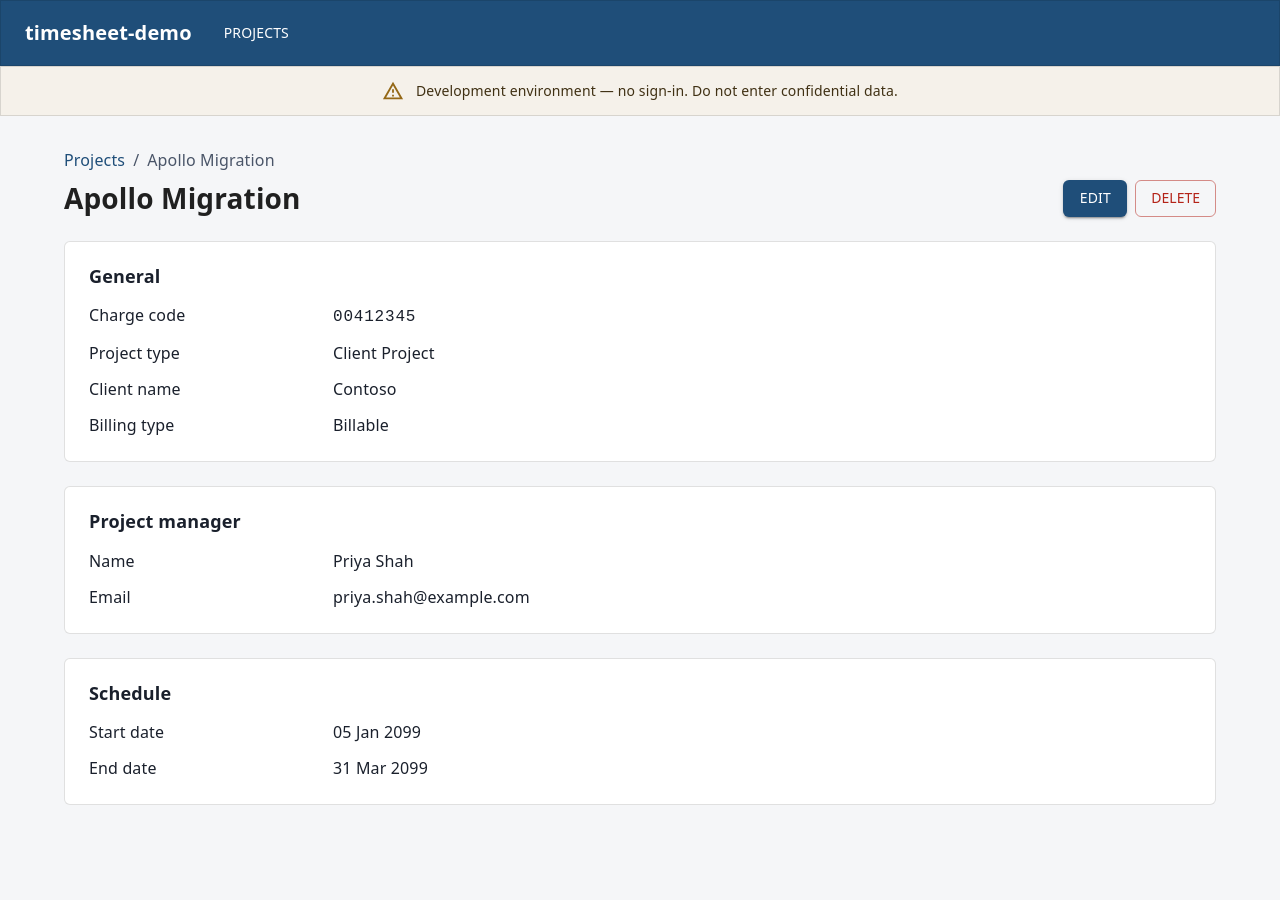
Test: DeleteProjectDialog › closes on Cancel without a request and returns focus to Delete
The width and height of the screenshot is (1280, 900).
Check: the heading "Apollo Migration" is shown, box [64,182,301,215]
Click the button "Delete".
click(1176, 198)  # box [1135,180,1216,216]
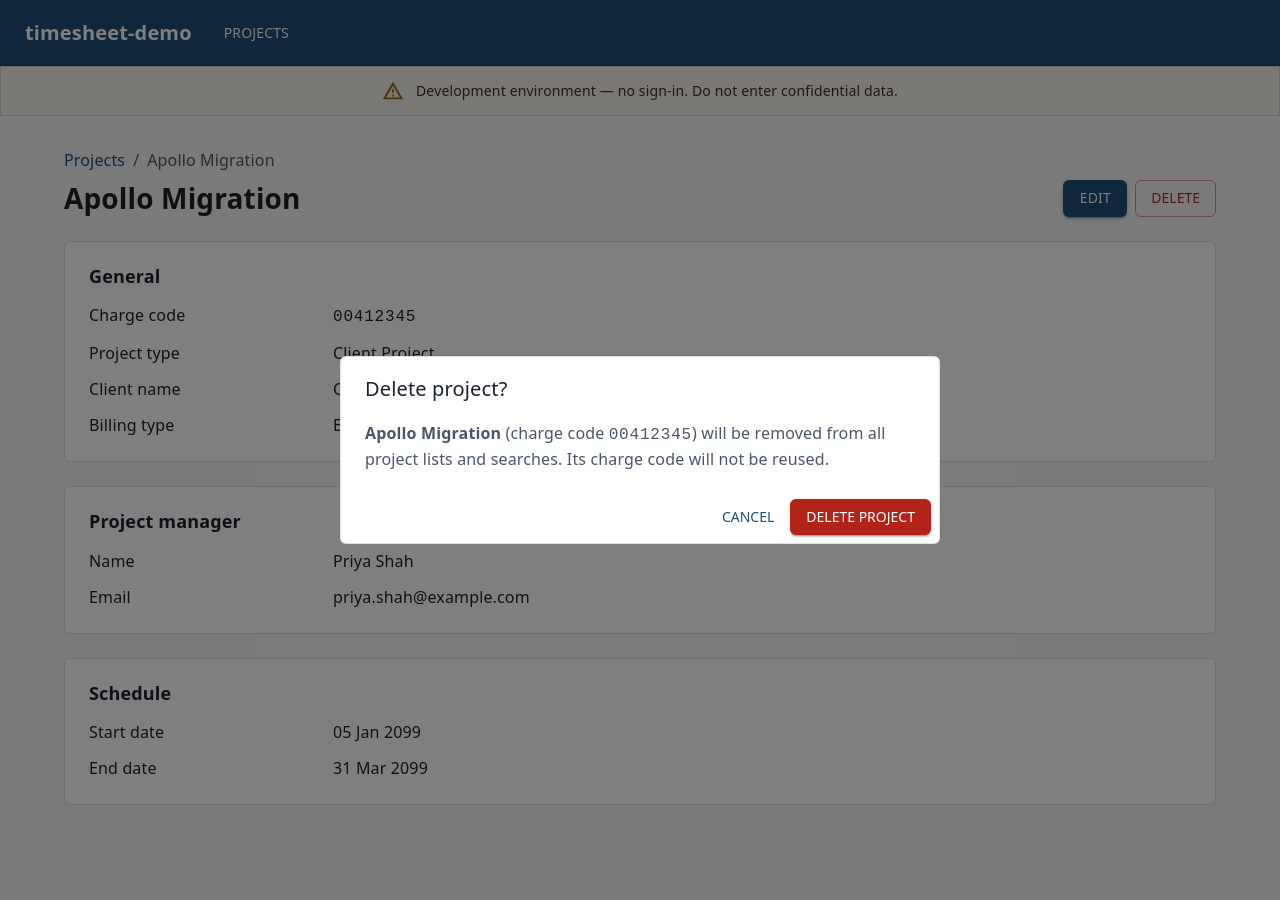
Click the button "Cancel".
click(748, 517)  # box [714,499,782,535]
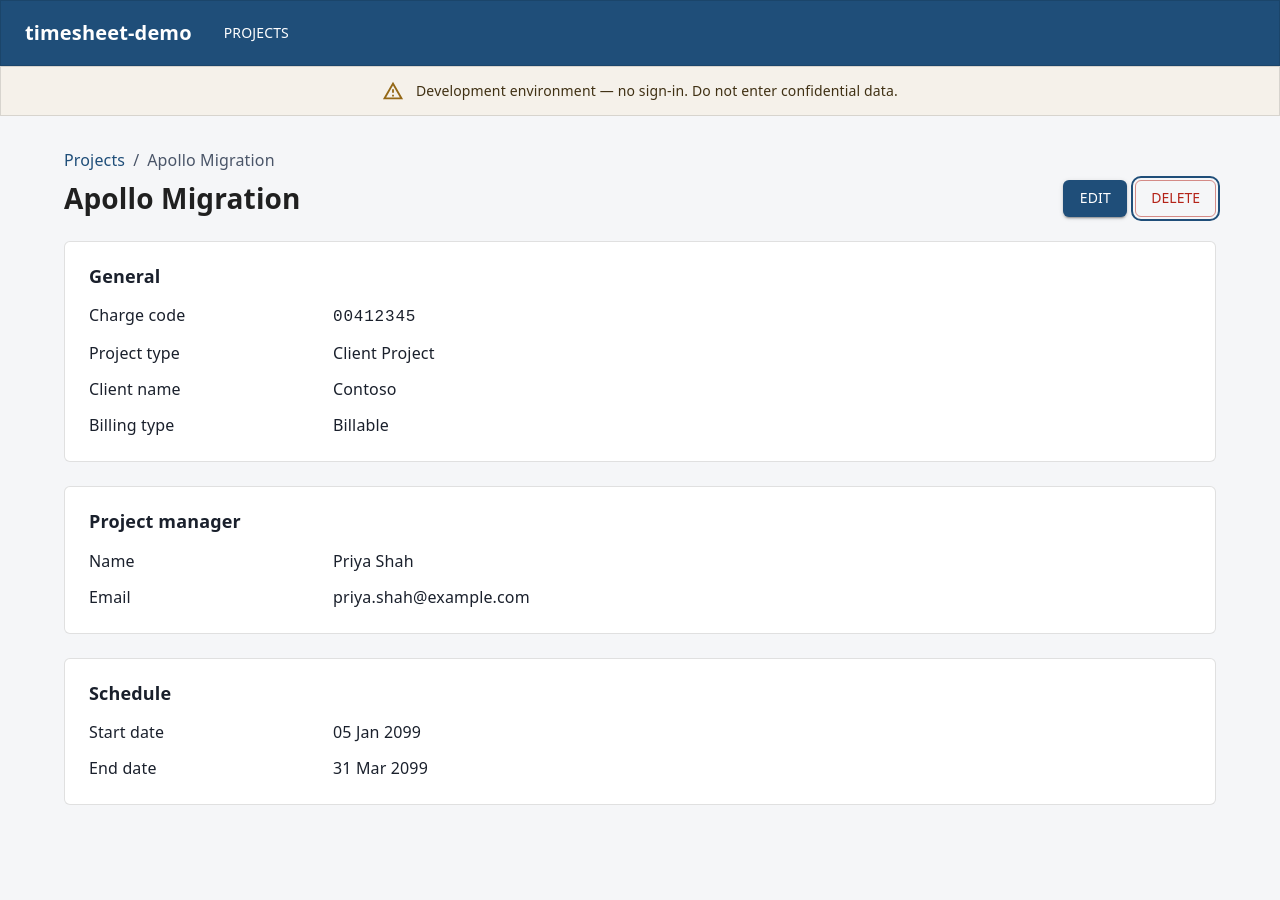
Check: the dialog is gone
